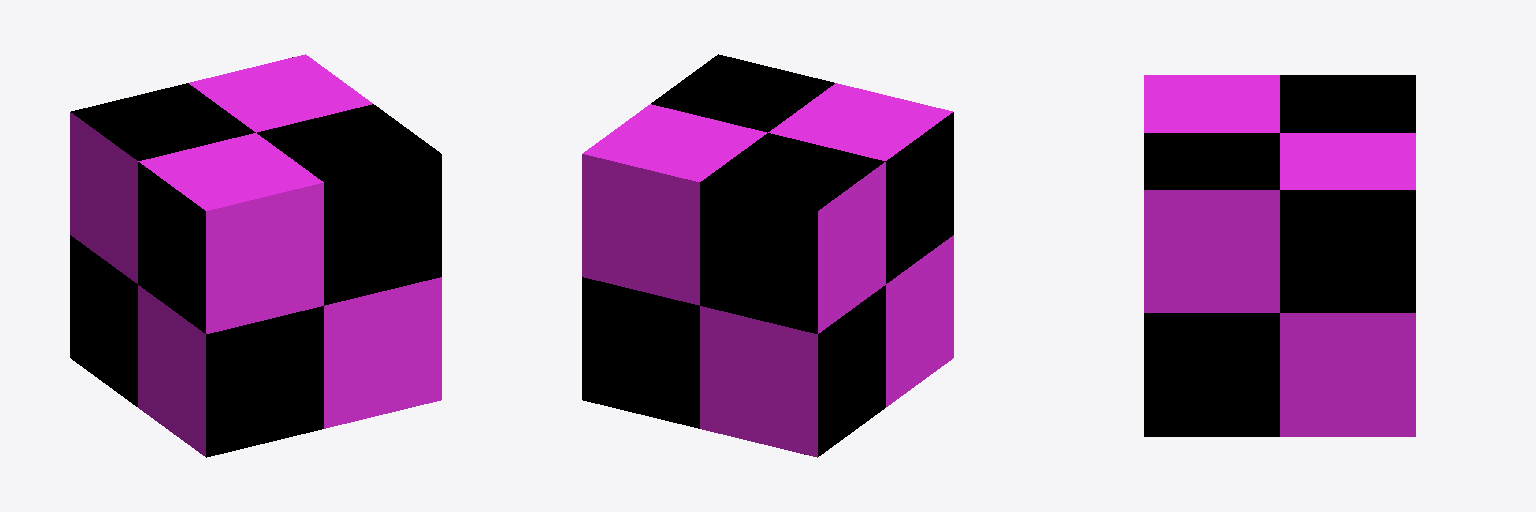
3 renders of one model, left to right at view 1: azimuth 30°, elevation 25°; view 2: azimuth 150°, elevation 25°; view 3: azimuth 270°, elevation 25°, orthographic.
Visible parts, largest first — view 1: Cube; view 2: Cube; view 3: Cube.
Part boxes in pixels (left/top/right/bottom): Cube: left=70, top=54, right=441, bottom=457; Cube: left=582, top=54, right=953, bottom=457; Cube: left=1144, top=75, right=1415, bottom=436.
Bounding box in the file's own units: 1 × 1 × 1.
1 materials, 1 textured.